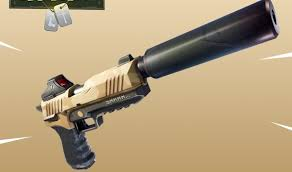gun: (37, 52, 169, 172)
